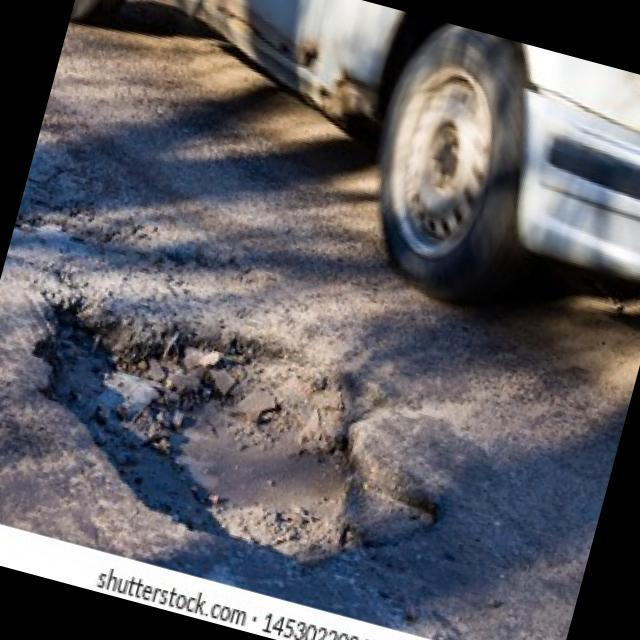Pothole: (0, 276, 477, 600)
